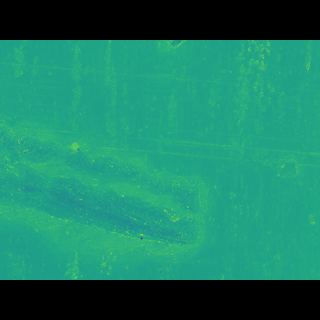Loch: (0, 125, 217, 237)
